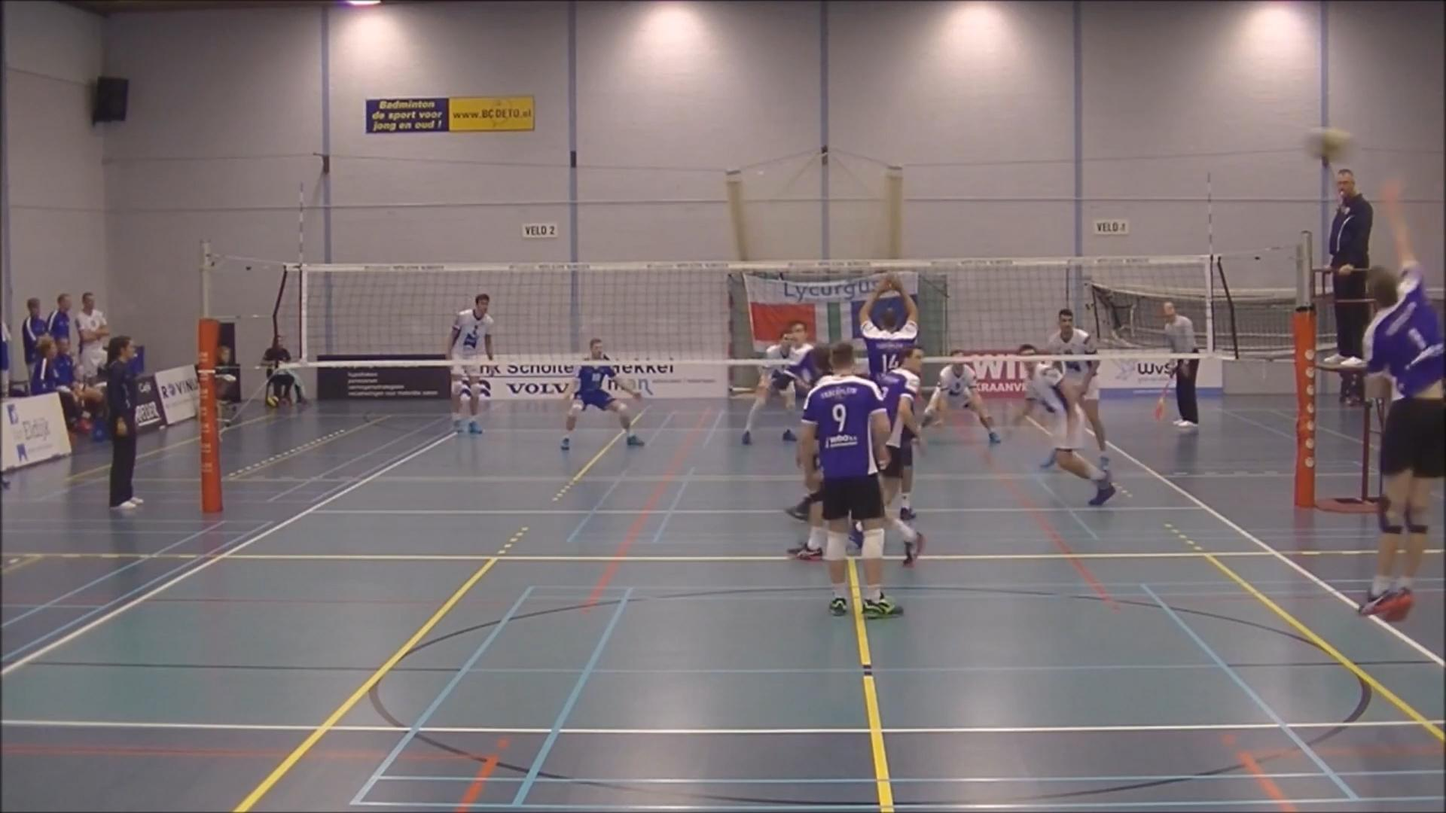Player: (798, 343, 901, 617), (1013, 360, 1116, 505), (1045, 308, 1109, 470), (561, 339, 643, 450), (742, 322, 812, 444), (876, 346, 923, 515), (921, 351, 1001, 444), (446, 294, 493, 434), (859, 273, 919, 380), (859, 273, 918, 377), (787, 459, 825, 560), (788, 346, 831, 397)
Serve: (1315, 168, 1446, 626)
ball: (1303, 125, 1353, 166)
